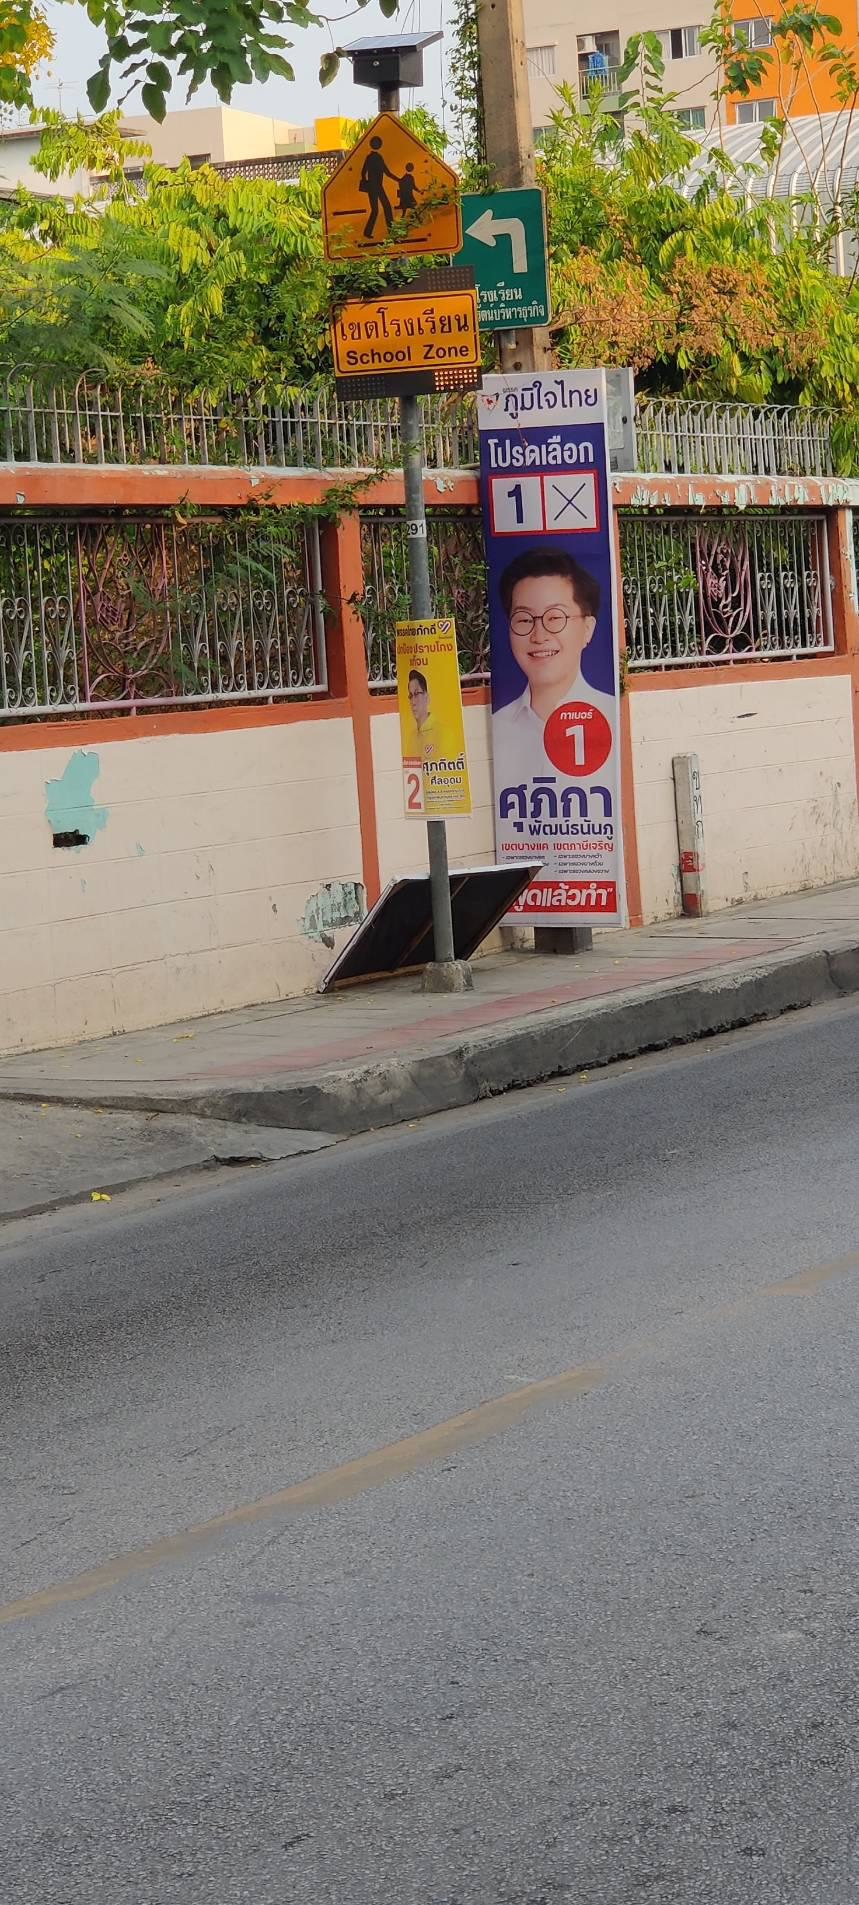Banner: (486, 377, 614, 923)
